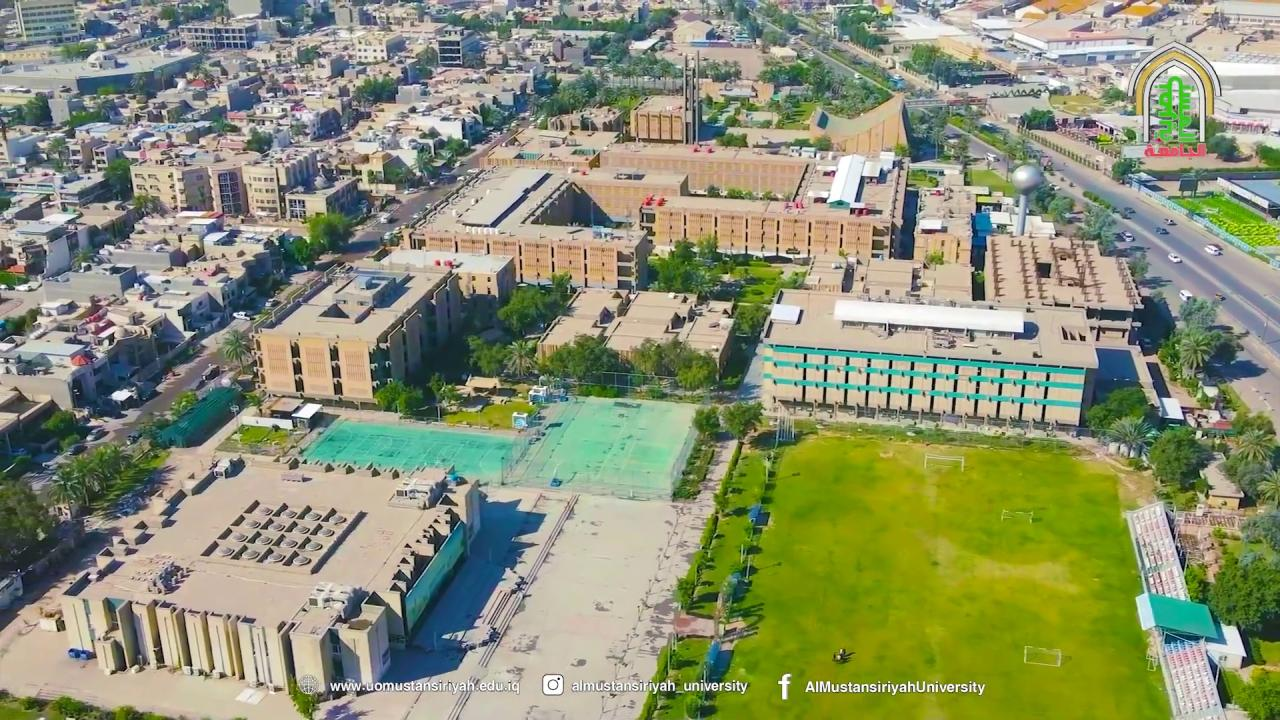car: (1204, 243, 1223, 256), (126, 431, 141, 445), (1115, 230, 1134, 241), (1179, 289, 1193, 301), (1168, 253, 1182, 262), (1155, 226, 1169, 234), (1163, 218, 1177, 226), (1214, 293, 1225, 300)
tree: (46, 439, 168, 519), (638, 630, 720, 718), (1205, 549, 1279, 633), (631, 335, 717, 393), (0, 478, 50, 560), (1157, 322, 1223, 383), (1147, 424, 1209, 487), (646, 238, 712, 296), (1085, 384, 1148, 434), (497, 285, 555, 335), (673, 547, 716, 612), (1231, 670, 1279, 720), (303, 209, 354, 253), (911, 103, 950, 160), (1104, 414, 1154, 458), (716, 398, 764, 442), (464, 333, 508, 378), (988, 131, 1025, 182), (216, 328, 253, 376), (373, 378, 423, 413), (675, 352, 717, 391), (1233, 427, 1277, 464), (427, 371, 460, 419), (286, 674, 321, 719), (630, 338, 662, 387), (503, 336, 538, 378), (1156, 329, 1184, 381), (102, 157, 131, 201), (1179, 296, 1217, 329), (733, 301, 767, 336), (355, 74, 395, 103), (40, 408, 77, 436), (1205, 131, 1239, 160), (691, 405, 719, 440), (1256, 466, 1279, 507), (440, 136, 469, 167), (44, 133, 67, 170), (288, 236, 315, 267), (1046, 193, 1074, 222), (169, 389, 197, 417), (1022, 106, 1052, 132), (243, 128, 272, 154), (20, 95, 44, 125), (699, 513, 720, 547), (70, 244, 95, 272), (1127, 254, 1150, 284), (132, 188, 155, 217), (550, 270, 572, 300), (953, 134, 971, 165), (923, 249, 944, 270)
